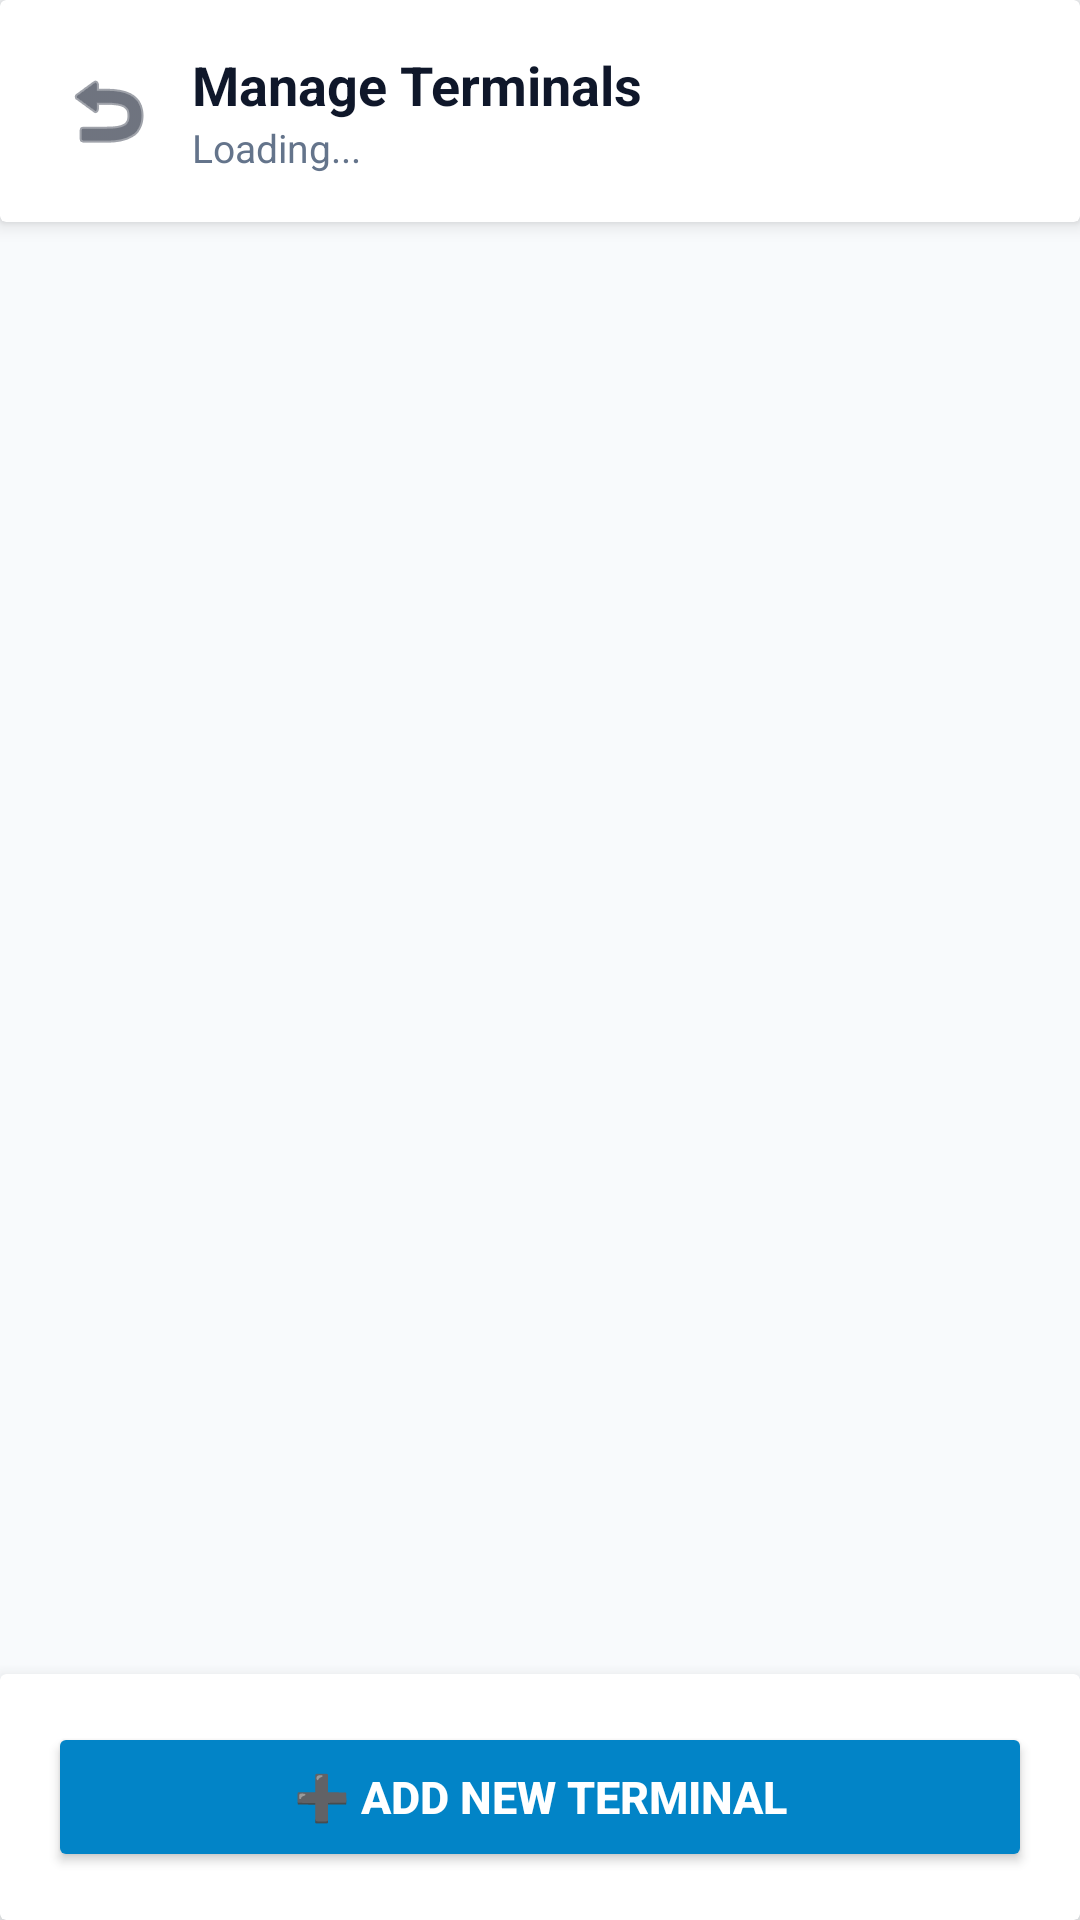

Icon bounding boxes for this 1080 x 1920 phone screenshot, format (x1, y1, x2, y2):
revert: (75, 80, 144, 143)
